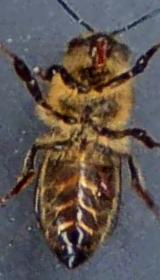varroa_mite: (91, 163, 116, 204)
